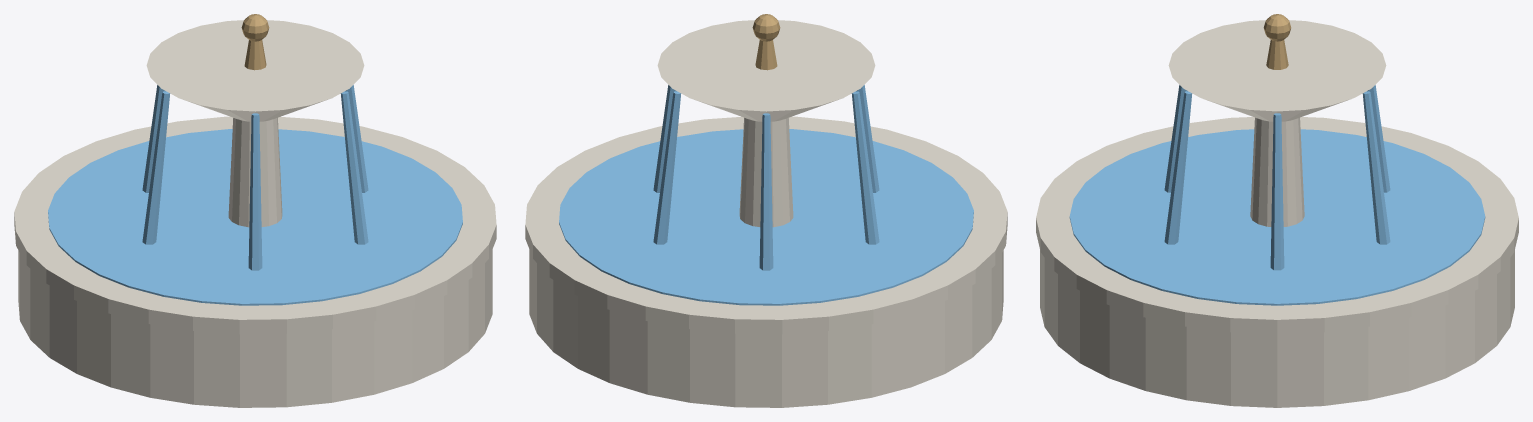
File: fountain.glb
3 renders of one model, left to right at view 1: azimuth 30°, elevation 25°; view 2: azimuth 150°, elevation 25°; view 3: azimuth 270°, elevation 25°, orthographic.
Visible parts, largest first — view 1: eau_du_bassin, bassin, margelle, vasque, colonne, filet_4, filet_3, filet_5, filet_0, filet_2, boule, bec; view 2: eau_du_bassin, bassin, margelle, vasque, colonne, filet_2, filet_1, filet_3, filet_0, filet_4, boule, bec; view 3: eau_du_bassin, bassin, margelle, vasque, colonne, filet_0, filet_1, filet_5, filet_2, filet_4, boule, bec.
Part boxes in pixels (box(x1,y1,x2,y2)): eau_du_bassin: box(48, 129, 462, 305); bassin: box(18, 250, 492, 407); margelle: box(14, 116, 496, 334); vasque: box(146, 20, 364, 121); colonne: box(228, 117, 282, 227); filet_4: box(248, 113, 262, 270); filet_3: box(142, 91, 170, 244); filet_5: box(340, 91, 368, 244); filet_0: box(345, 85, 368, 192); filet_2: box(142, 85, 165, 192); boule: box(241, 14, 269, 41); bec: box(244, 40, 266, 70); eau_du_bassin: box(559, 129, 973, 305); bassin: box(529, 250, 1003, 407); margelle: box(525, 116, 1007, 334); vasque: box(657, 20, 875, 121); colonne: box(739, 117, 793, 227); filet_2: box(759, 113, 773, 270); filet_1: box(653, 91, 681, 244); filet_3: box(851, 91, 879, 244); filet_0: box(653, 85, 676, 192); filet_4: box(856, 85, 879, 192); boule: box(752, 14, 780, 41); bec: box(755, 40, 777, 70); eau_du_bassin: box(1069, 129, 1485, 305); bassin: box(1040, 250, 1514, 407); margelle: box(1036, 117, 1518, 334); vasque: box(1168, 20, 1386, 121); colonne: box(1250, 117, 1304, 226); filet_0: box(1270, 113, 1284, 270); filet_1: box(1362, 91, 1390, 244); filet_5: box(1164, 91, 1192, 244); filet_2: box(1367, 85, 1390, 192); filet_4: box(1164, 85, 1187, 192); boule: box(1263, 14, 1291, 41); bec: box(1266, 40, 1288, 69).
Size of the model in its own units: 2.44 by 1.63 by 2.44.
